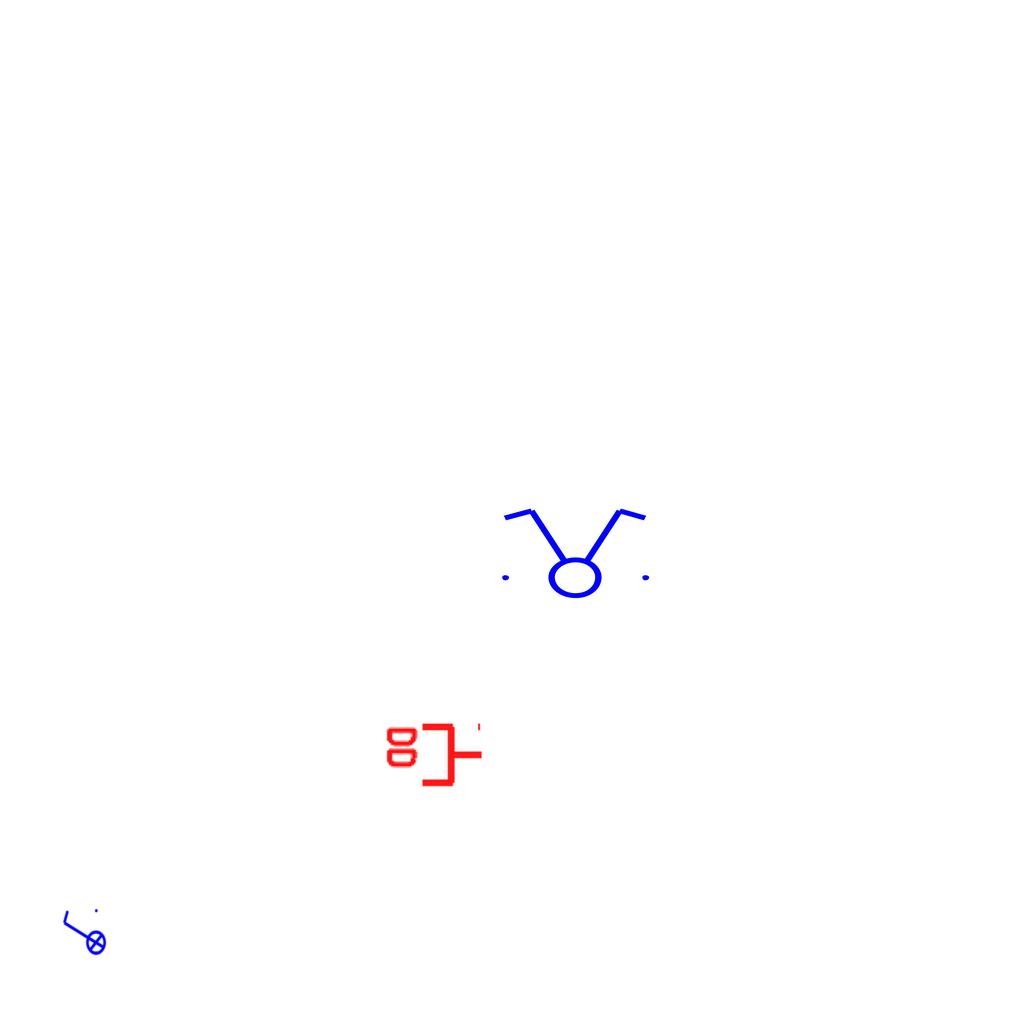Ausschalter_beleuchtet: (59, 906, 107, 962)
Datenanschluss_zweifach: (382, 722, 485, 791)
Serienschalter: (490, 504, 658, 600)
